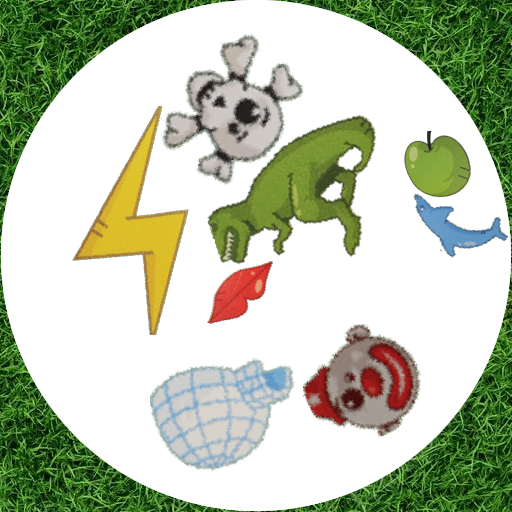apple_icon: (398, 131, 472, 205)
clown_icon: (303, 322, 421, 440)
dino_icon: (199, 86, 388, 275)
dolphin_icon: (406, 174, 508, 276)
igloo_icon: (150, 327, 303, 480)
lightning_icon: (32, 106, 261, 335)
lips_icon: (197, 249, 277, 329)
skull_icon: (150, 33, 314, 197)
